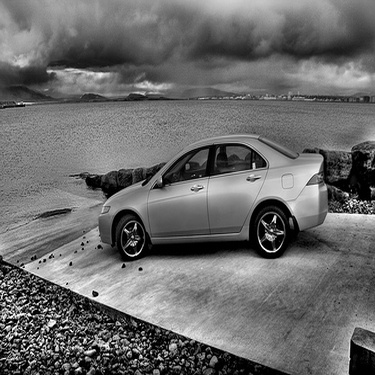car: (74, 125, 357, 266)
